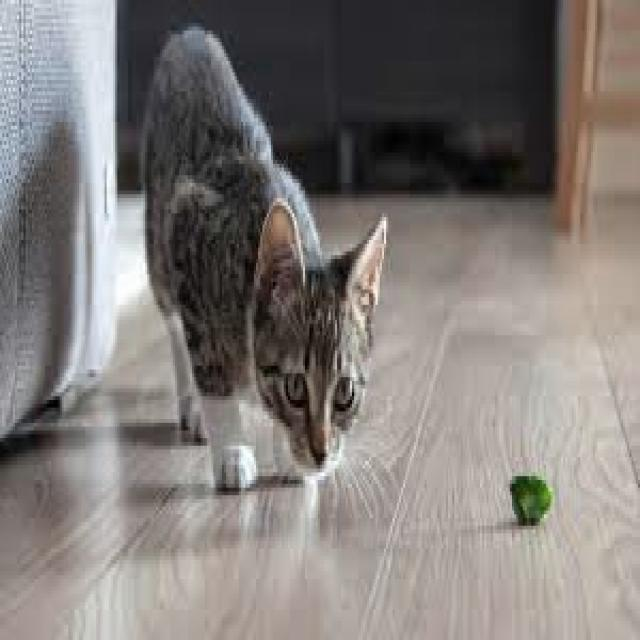cat: (141, 27, 386, 488)
